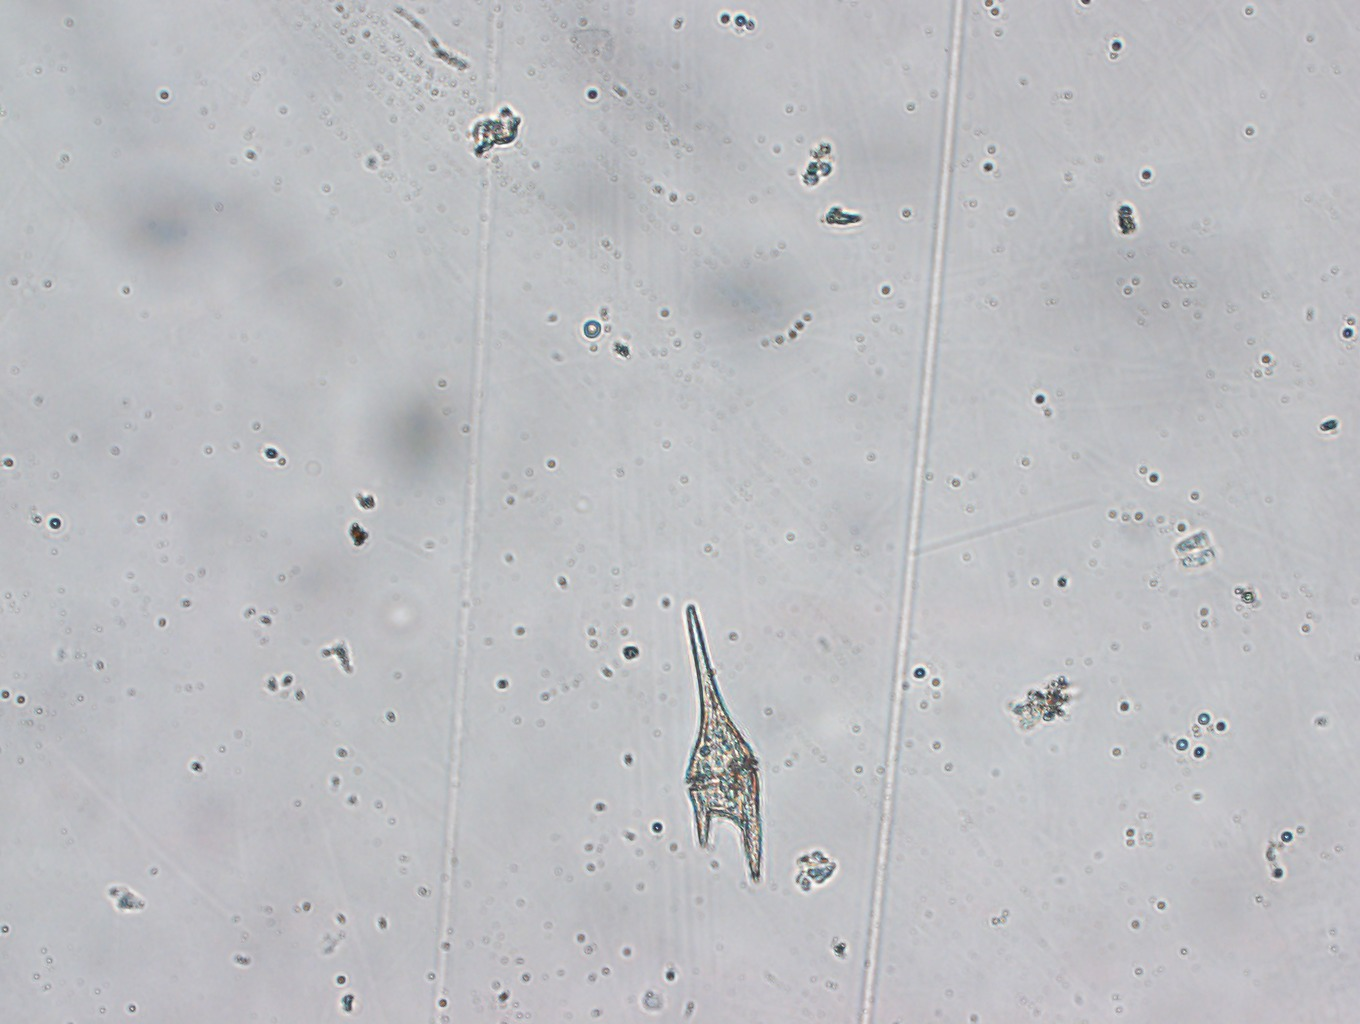ceratium furca: (681, 602, 764, 884)
